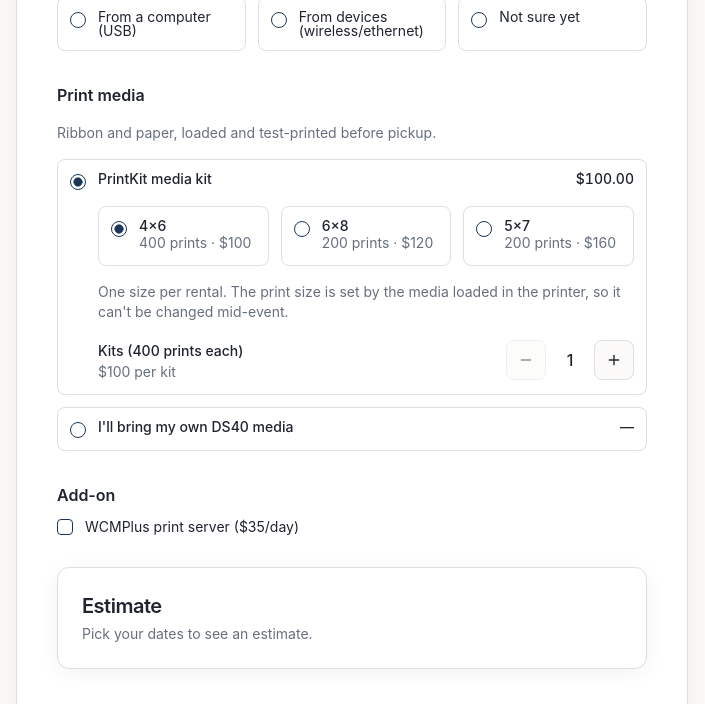
RequestForm › defaults to the PrintKit media kit with sizes and a 1-4 stepper
(page scrolled)
Expected: the radio button named "PrintKit media kit" next to "PrintKit media kit" is checked, [70,174,86,190]
Expected: the text "4×6" is shown, [139,217,166,234]
Click the button named "Add one media kit" at (614, 360), box [594,340,634,380]
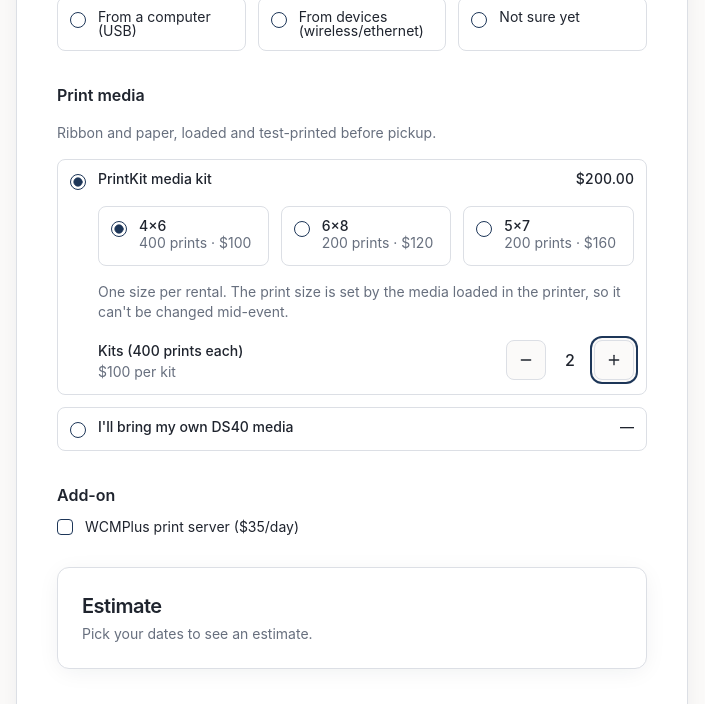
Click the button named "Add one media kit" at (614, 360), box [594,340,634,380]
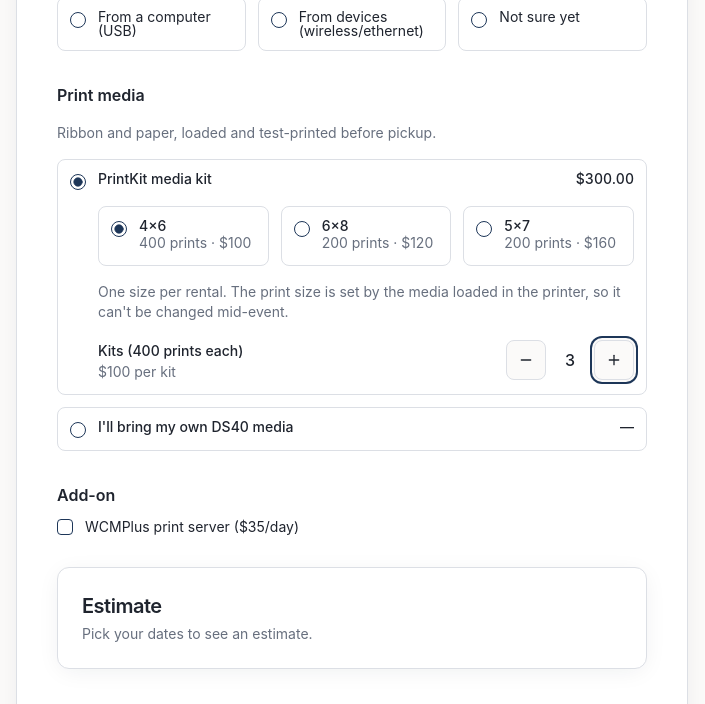
Click the button named "Add one media kit" at (614, 360), box [594,340,634,380]
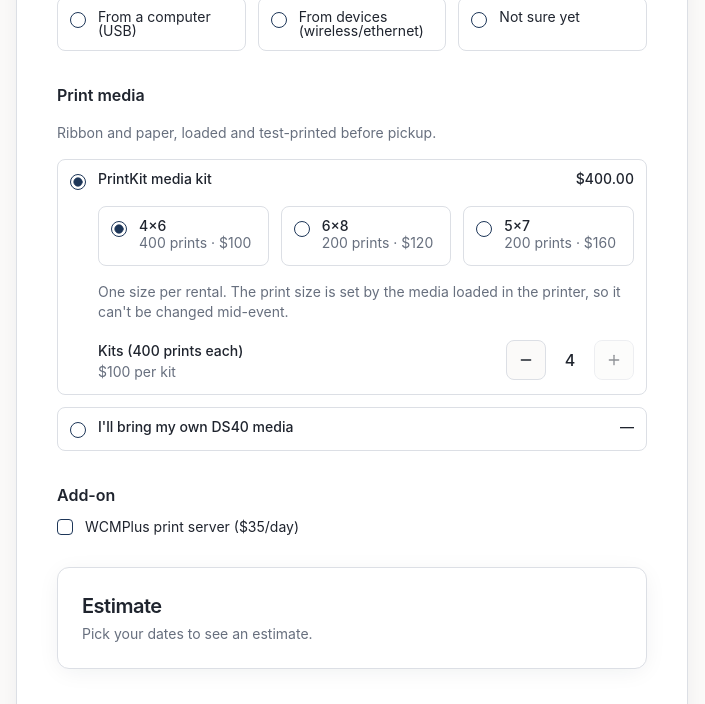
Expected: the button named "Add one media kit" is disabled, [594,340,634,380]
Expected: the text "4" is shown, [565,350,575,370]
